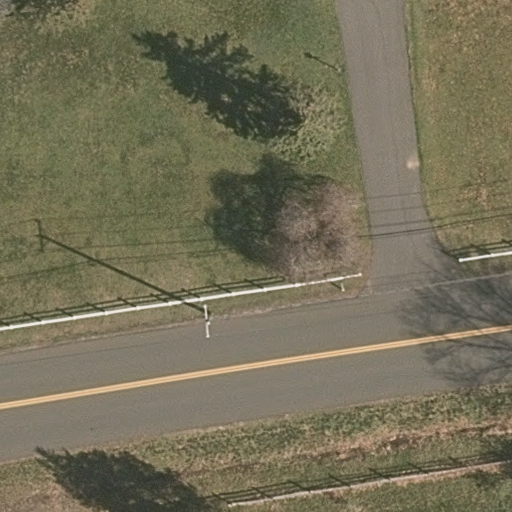DT: (196, 300, 217, 341)
